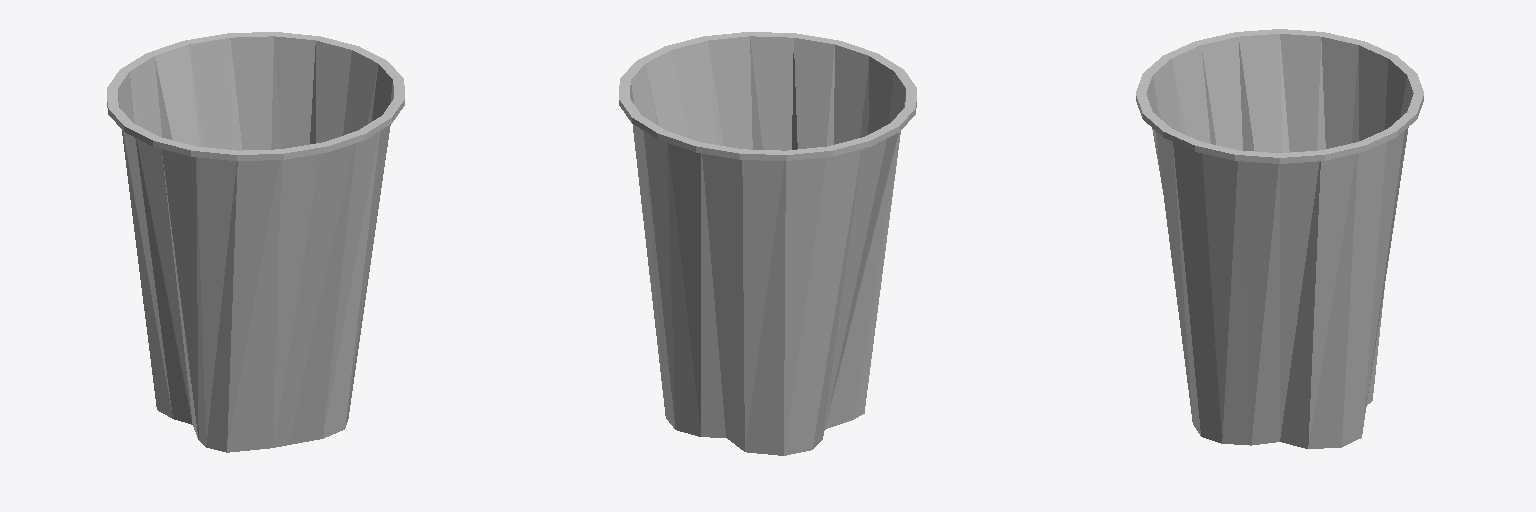
File: SoloCup.obj
The picture shows the model from 3 angles: view 1: azimuth 30°, elevation 25°; view 2: azimuth 150°, elevation 25°; view 3: azimuth 270°, elevation 25°; orthographic projection.
Visible parts, largest first — view 1: Solo_Cup; view 2: Solo_Cup; view 3: Solo_Cup.
Boxes of the visible parts, x1=… form: Solo_Cup: x1=107, y1=32, x2=404, y2=452; Solo_Cup: x1=619, y1=32, x2=916, y2=455; Solo_Cup: x1=1136, y1=29, x2=1423, y2=448.
Size of the model in its own units: 2.52 by 2.96 by 2.39.